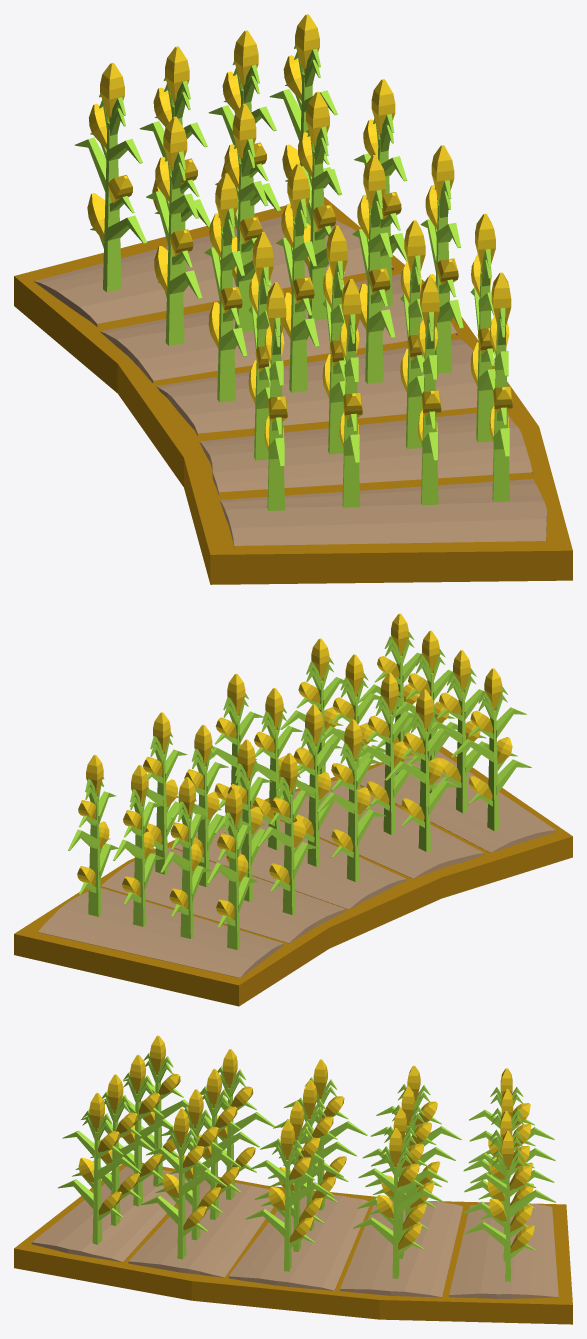
Rendered from middlecircle-planted2.fbx.
3 renders of one model, top to bottom at view 1: azimuth 30°, elevation 25°; view 2: azimuth 150°, elevation 25°; view 3: azimuth 270°, elevation 25°, orthographic. The views are drawn at different scales.
Visible parts, largest first — view 1: Cylinder.109, Object_3.010, Object_3.014, Object_3.018, Object_3.020, Object_3.019, Object_3.016, Object_3.021, Object_3.015, Object_3.037, Object_3.041, Object_3.040 (+9 smaller); view 2: Cylinder.109, Object_3.038, Object_3.022, Object_3.018, Object_3.023, Object_3.014, Object_3.039, Object_3.010, Object_3.013, Object_3.012, Object_3.011, Object_3.019 (+9 smaller); view 3: Cylinder.109, Object_3.037, Object_3.041, Object_3.021, Object_3.017, Object_3.013, Object_3.039, Object_3.040, Object_3.023, Object_3.024, Object_3.038, Object_3.022 (+9 smaller).
Boxes of the visible parts, box(x1,y1,x2,y2) form: Cylinder.109: box(14, 197, 572, 584); Object_3.010: box(74, 62, 147, 292); Object_3.014: box(146, 116, 202, 345); Object_3.018: box(204, 173, 247, 402); Object_3.020: box(352, 155, 395, 383); Object_3.019: box(276, 163, 319, 392); Object_3.016: box(288, 91, 344, 320); Object_3.021: box(420, 145, 463, 373); Object_3.015: box(215, 104, 271, 332); Object_3.037: box(470, 213, 495, 442); Object_3.041: box(489, 272, 512, 501); Object_3.040: box(418, 276, 441, 505); Cylinder.109: box(14, 746, 572, 1006); Object_3.038: box(450, 668, 531, 831); Object_3.022: box(385, 689, 460, 851); Object_3.018: box(317, 719, 385, 881); Object_3.023: box(359, 672, 420, 834); Object_3.014: box(257, 752, 318, 914); Object_3.039: box(420, 650, 489, 813); Object_3.010: box(207, 788, 257, 949); Object_3.013: box(68, 754, 118, 916); Object_3.012: box(113, 765, 163, 926); Object_3.011: box(160, 777, 211, 938); Object_3.019: box(277, 704, 342, 866); Cylinder.109: box(14, 1163, 572, 1324); Object_3.037: box(141, 1108, 226, 1259); Object_3.041: box(58, 1092, 141, 1244); Object_3.021: box(245, 1120, 334, 1271); Object_3.017: box(353, 1128, 443, 1278); Object_3.013: box(465, 1131, 555, 1281); Object_3.039: box(104, 1054, 172, 1206); Object_3.040: box(75, 1074, 159, 1226); Object_3.023: box(188, 1068, 259, 1219); Object_3.024: box(155, 1089, 241, 1240); Object_3.038: box(123, 1035, 188, 1186); Object_3.022: box(200, 1049, 275, 1199).
Bounding box in the file's own units: 1581 × 878 × 2580.
